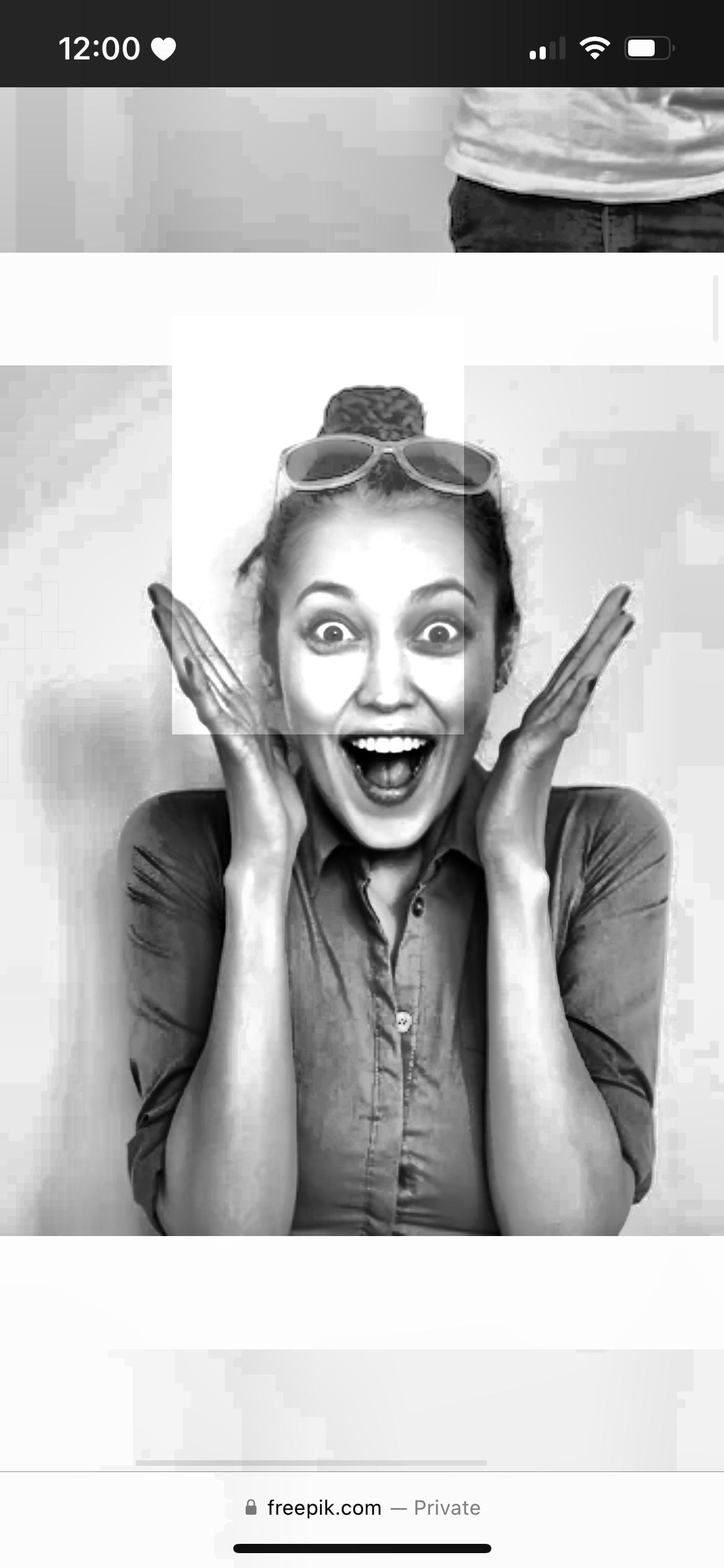surprised: (213, 390, 574, 908)
